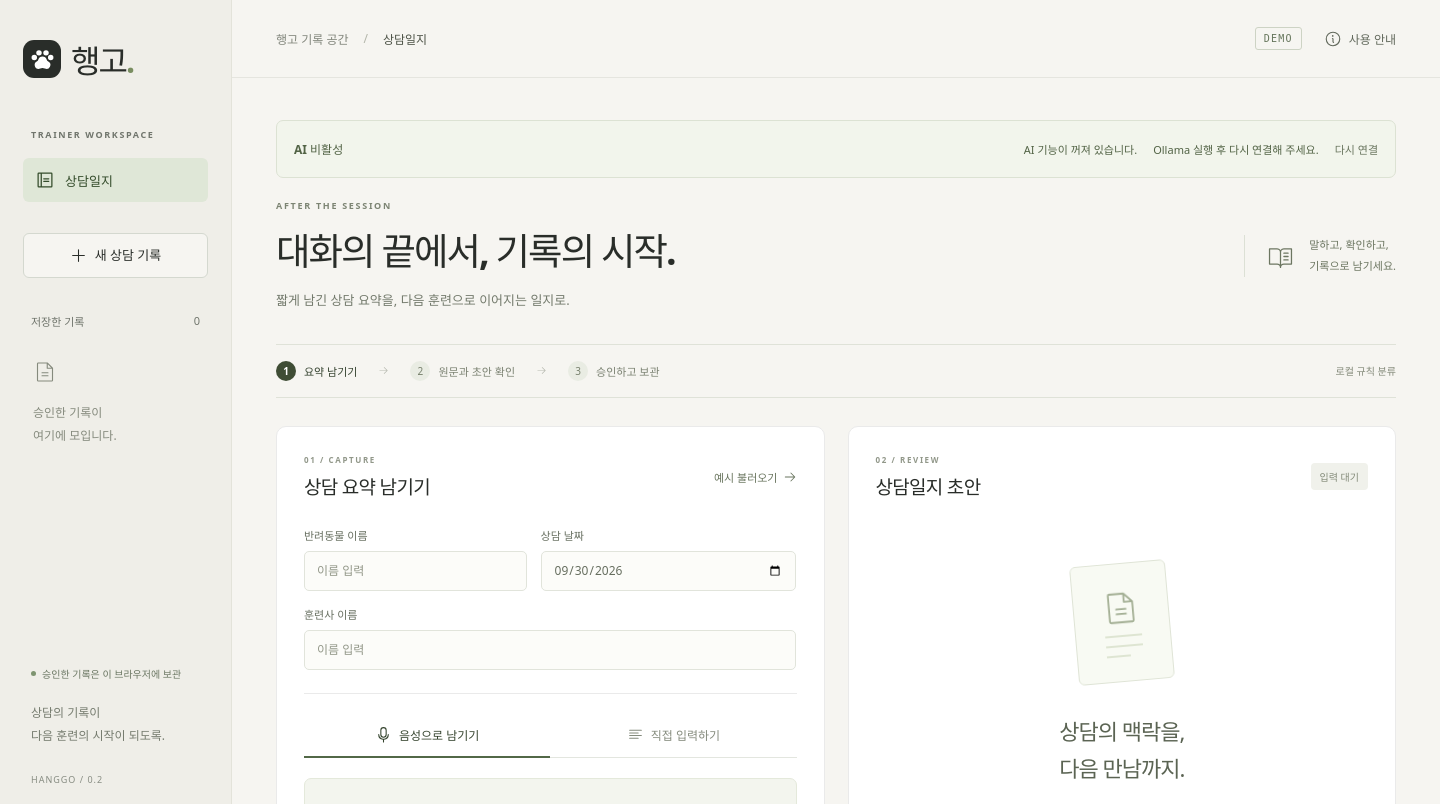
Scenario: refreshes an unavailable local AI session from the connection panel
Check: the button "예시 불러오기" is shown, box [714,462,796,492]
Check: the text "Ollama 실행 후 다시 연결해 주세요." is shown, box [1153,141,1319,157]
Click the button "다시 연결".
click(1356, 149)  # box [1335,134,1378,164]
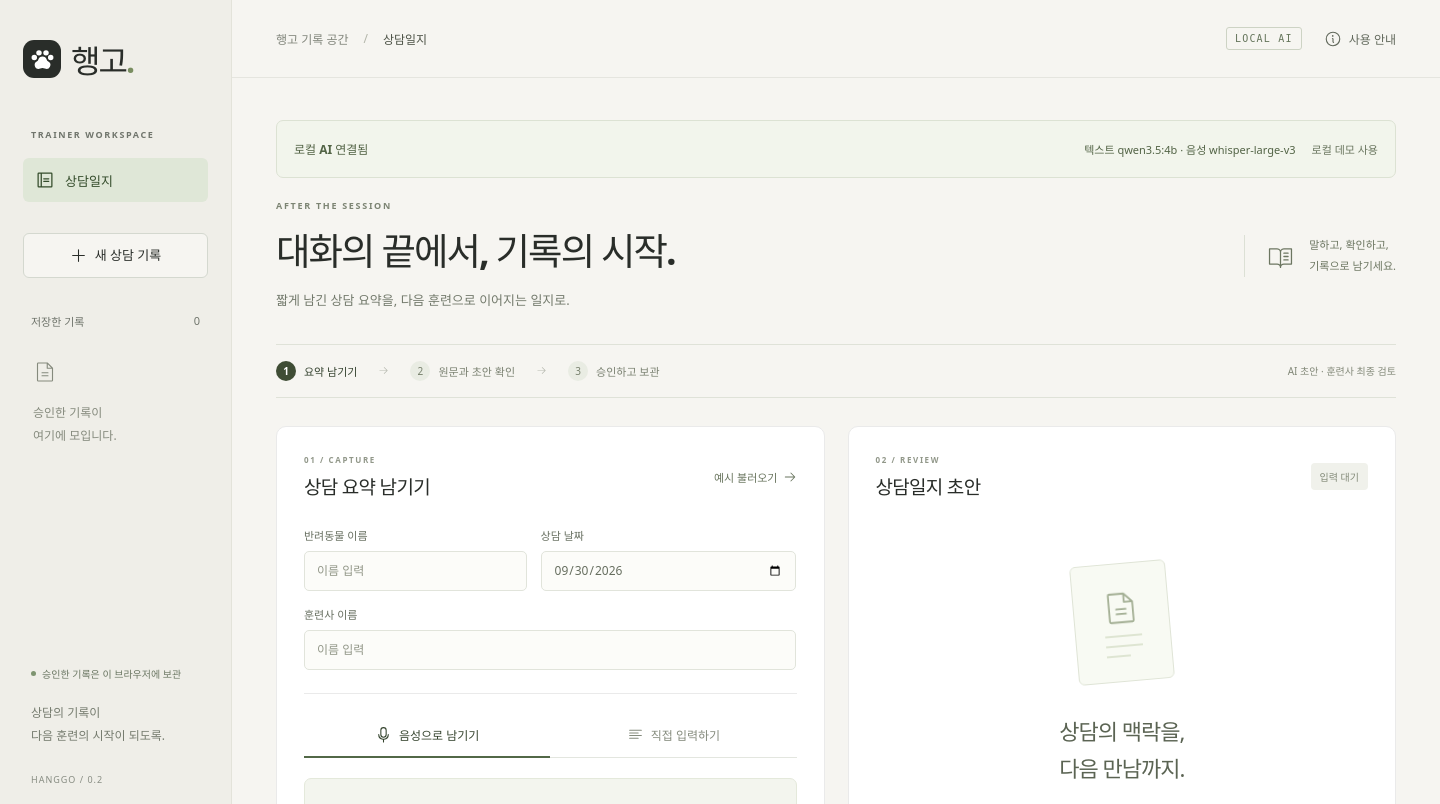
Check: the text "로컬 AI 연결됨" is shown, box [294,140,368,158]
